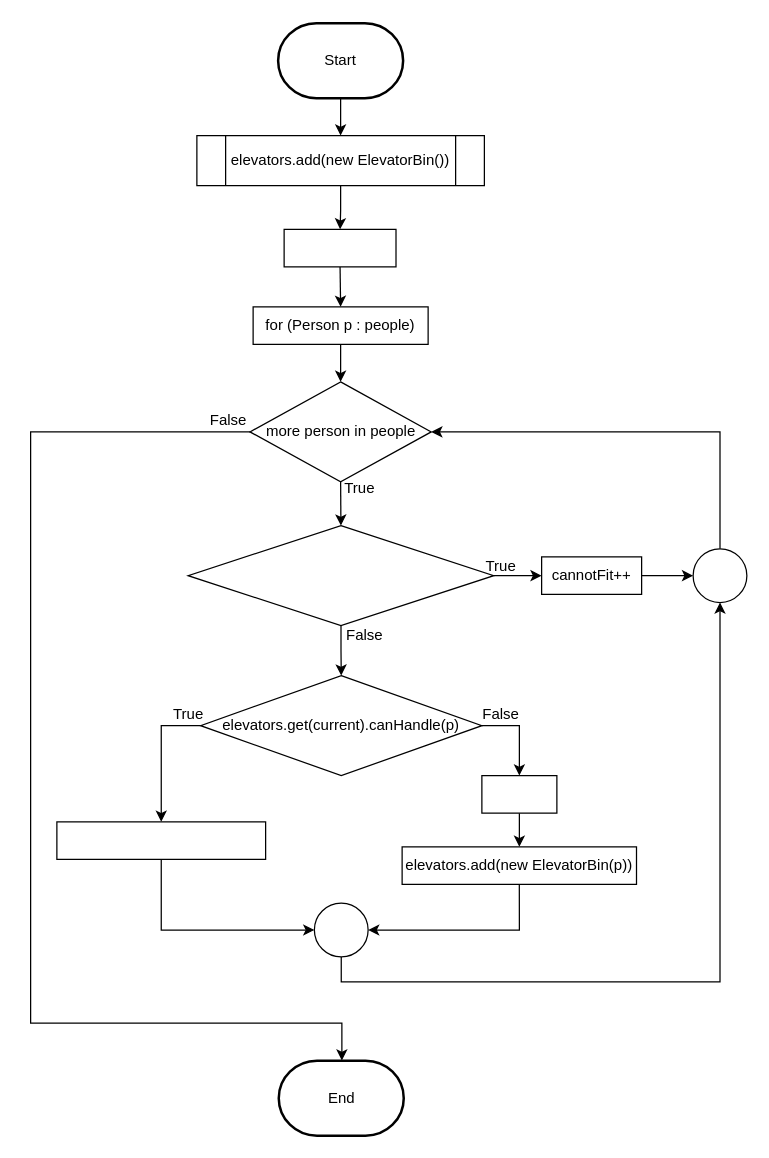
Some shapes in this 769 by 1158 pixel diagram are drawn without their labels. Here are the shapes that lost their labels. From the top down, the box of each, then its label:
(283, 228, 396, 267): int current = 0
(187, 524, 494, 626): p.getArea() > maxArea || p.getWeight() > maxLoad
(481, 774, 557, 813): current++
(56, 821, 266, 859): elevators.get(current).push(p)
